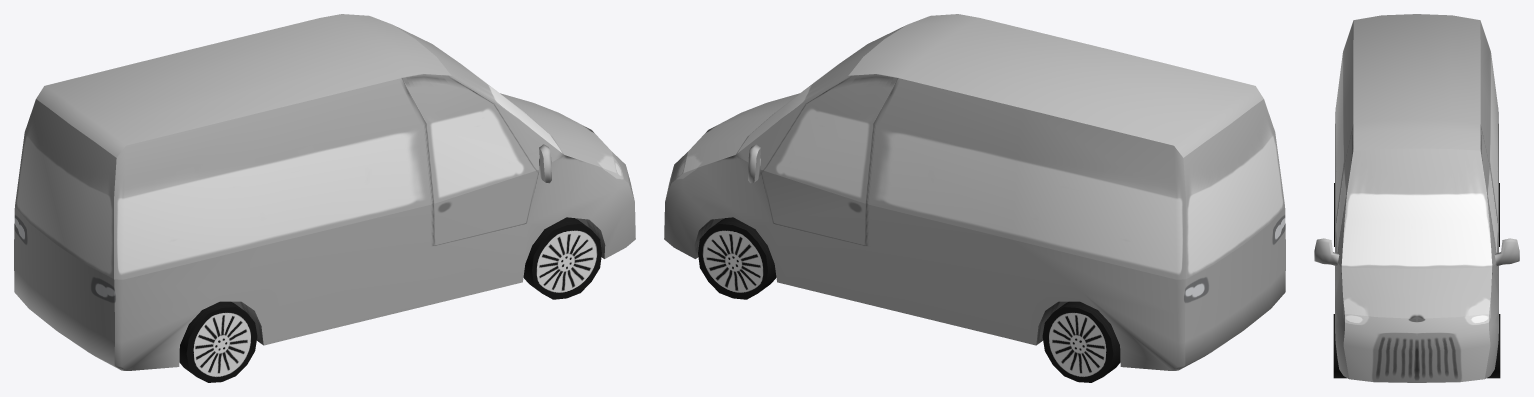
Rendered from van.fbx.
3 views of the same model, side by side, from view 1: azimuth 30°, elevation 25°; view 2: azimuth 150°, elevation 25°; view 3: azimuth 270°, elevation 25° (orthographic). The views are drawn at different scales.
Parts seen in each view (by area): view 1: Car_Van #lod0; view 2: Car_Van #lod0; view 3: Car_Van #lod0.
Boxes of the visible parts, left/top/right/bottom form: Car_Van #lod0: left=14, top=14, right=635, bottom=382; Car_Van #lod0: left=664, top=14, right=1285, bottom=382; Car_Van #lod0: left=1314, top=14, right=1519, bottom=382.
Size of the model in its own units: 585 by 243 by 257.
